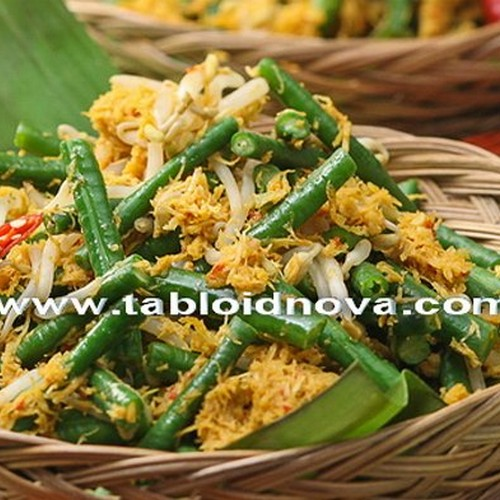jukut urap: (16, 69, 486, 423)
